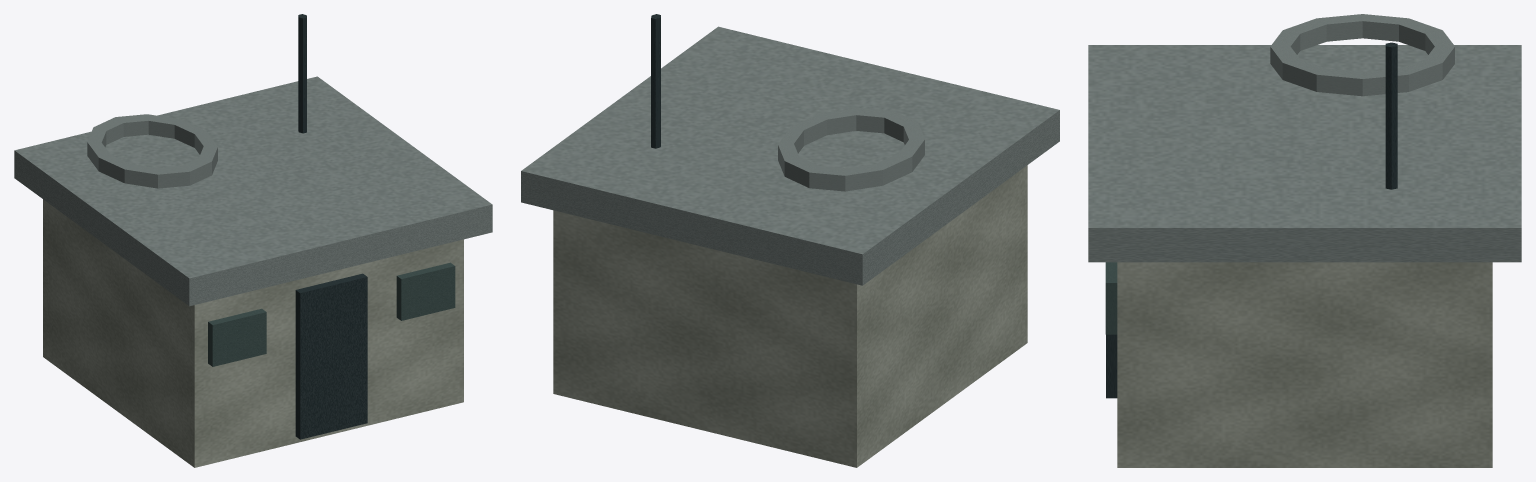
File: research_station_01.fbx
3 views of the same model, side by side, from view 1: azimuth 30°, elevation 25°; view 2: azimuth 150°, elevation 25°; view 3: azimuth 270°, elevation 25° (orthographic). The views are drawn at different scales.
Visible parts, largest first — view 1: research_station_01_LOD0; view 2: research_station_01_LOD0; view 3: research_station_01_LOD0.
Part boxes in pixels (box(x1,y1,x2,y2)): research_station_01_LOD0: box(14, 14, 492, 467); research_station_01_LOD0: box(521, 14, 1059, 467); research_station_01_LOD0: box(1088, 14, 1521, 467).
Size of what is drawn, in the model's own units: 1 by 1 by 1.
